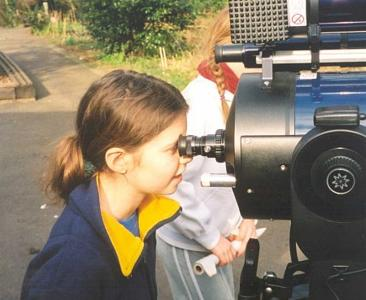person: (20, 70, 194, 300)
